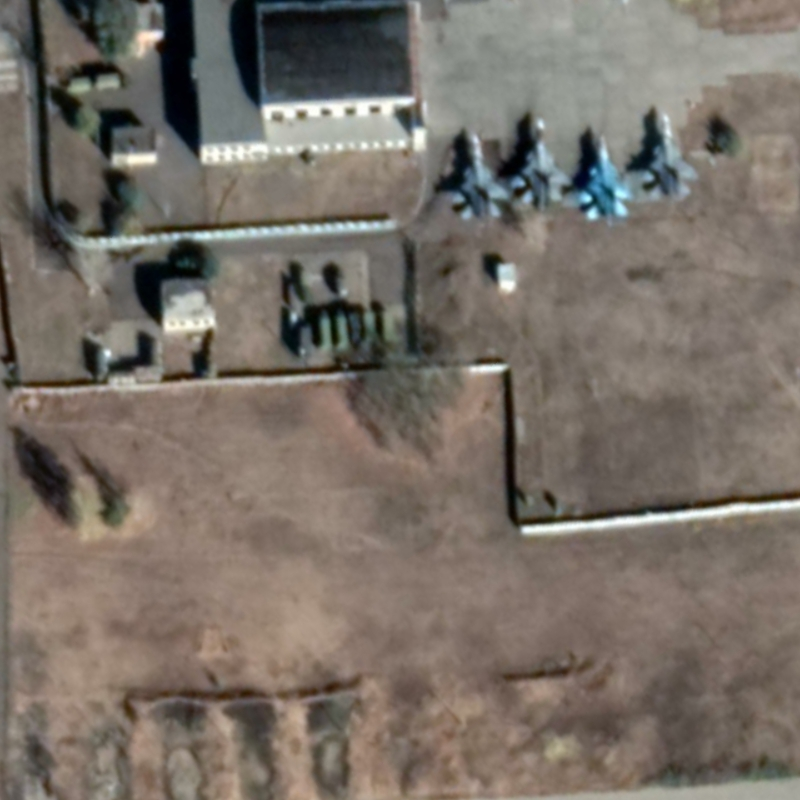A19: (635, 107, 704, 202), (511, 114, 575, 213), (447, 131, 514, 223), (574, 132, 638, 222)
